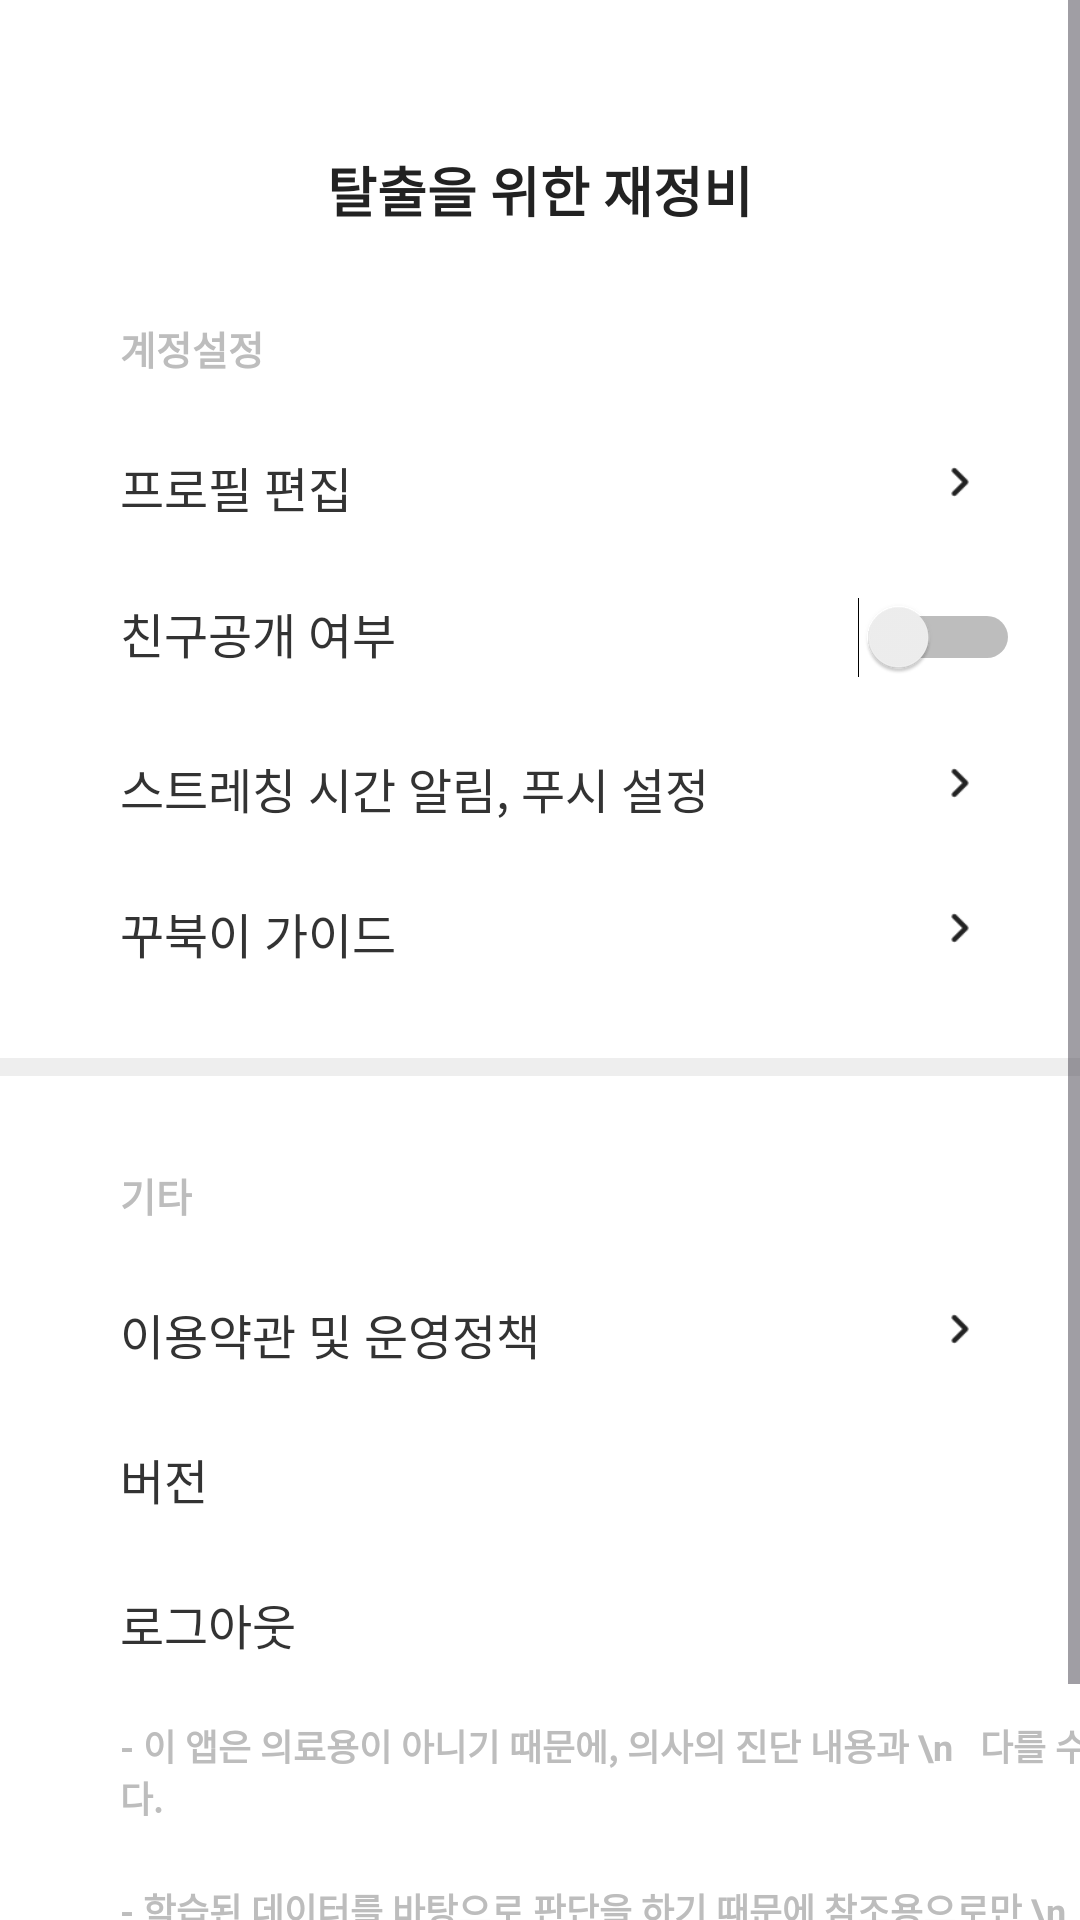

Where icons sit on this 1080×1920 app screen, as bbox=(x1, y1, x2, y2):
next: bbox=(951, 468, 969, 496), bbox=(951, 769, 969, 797), bbox=(951, 914, 969, 942), bbox=(951, 1315, 969, 1343)
